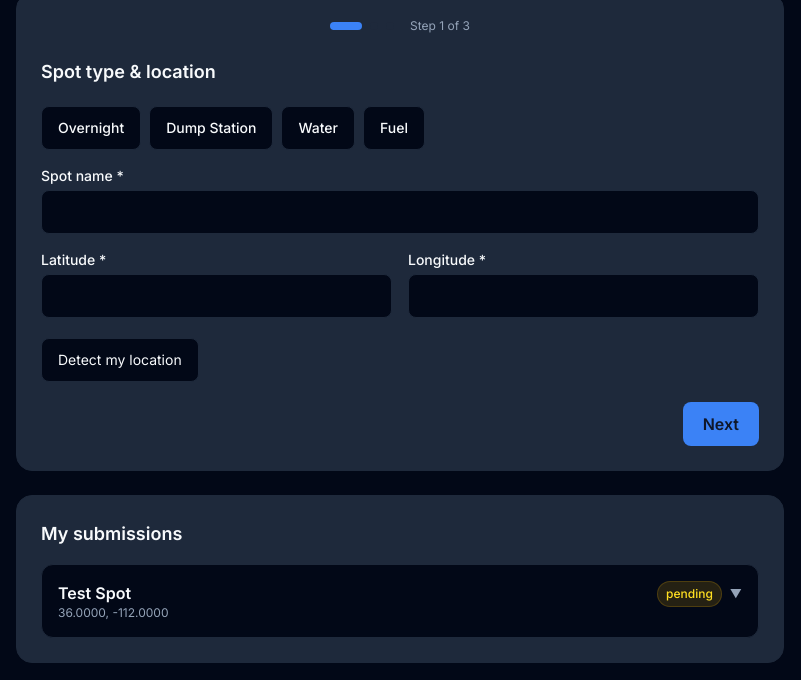
Test: SuggestSpotScreen › submission cards have aria-expanded attribute
This screenshot has width=801, height=680.
(page scrolled)
Expected: the text "Test Spot" is shown, [58,583,131,603]
What coordinates should you click on to do the following:
click the button "Test Spot 36.0000, -112.0000 pending ▼"
I would click on:
 (95, 593)
Its box is [41,564,759,638].
(page scrolled)
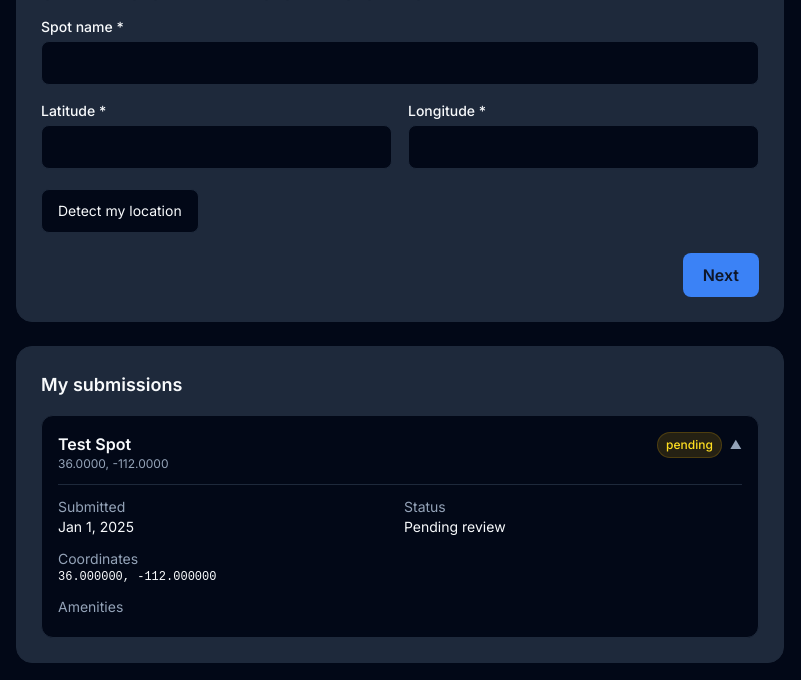
Now the button "Test Spot" is expanded, box [41,415,759,638]
